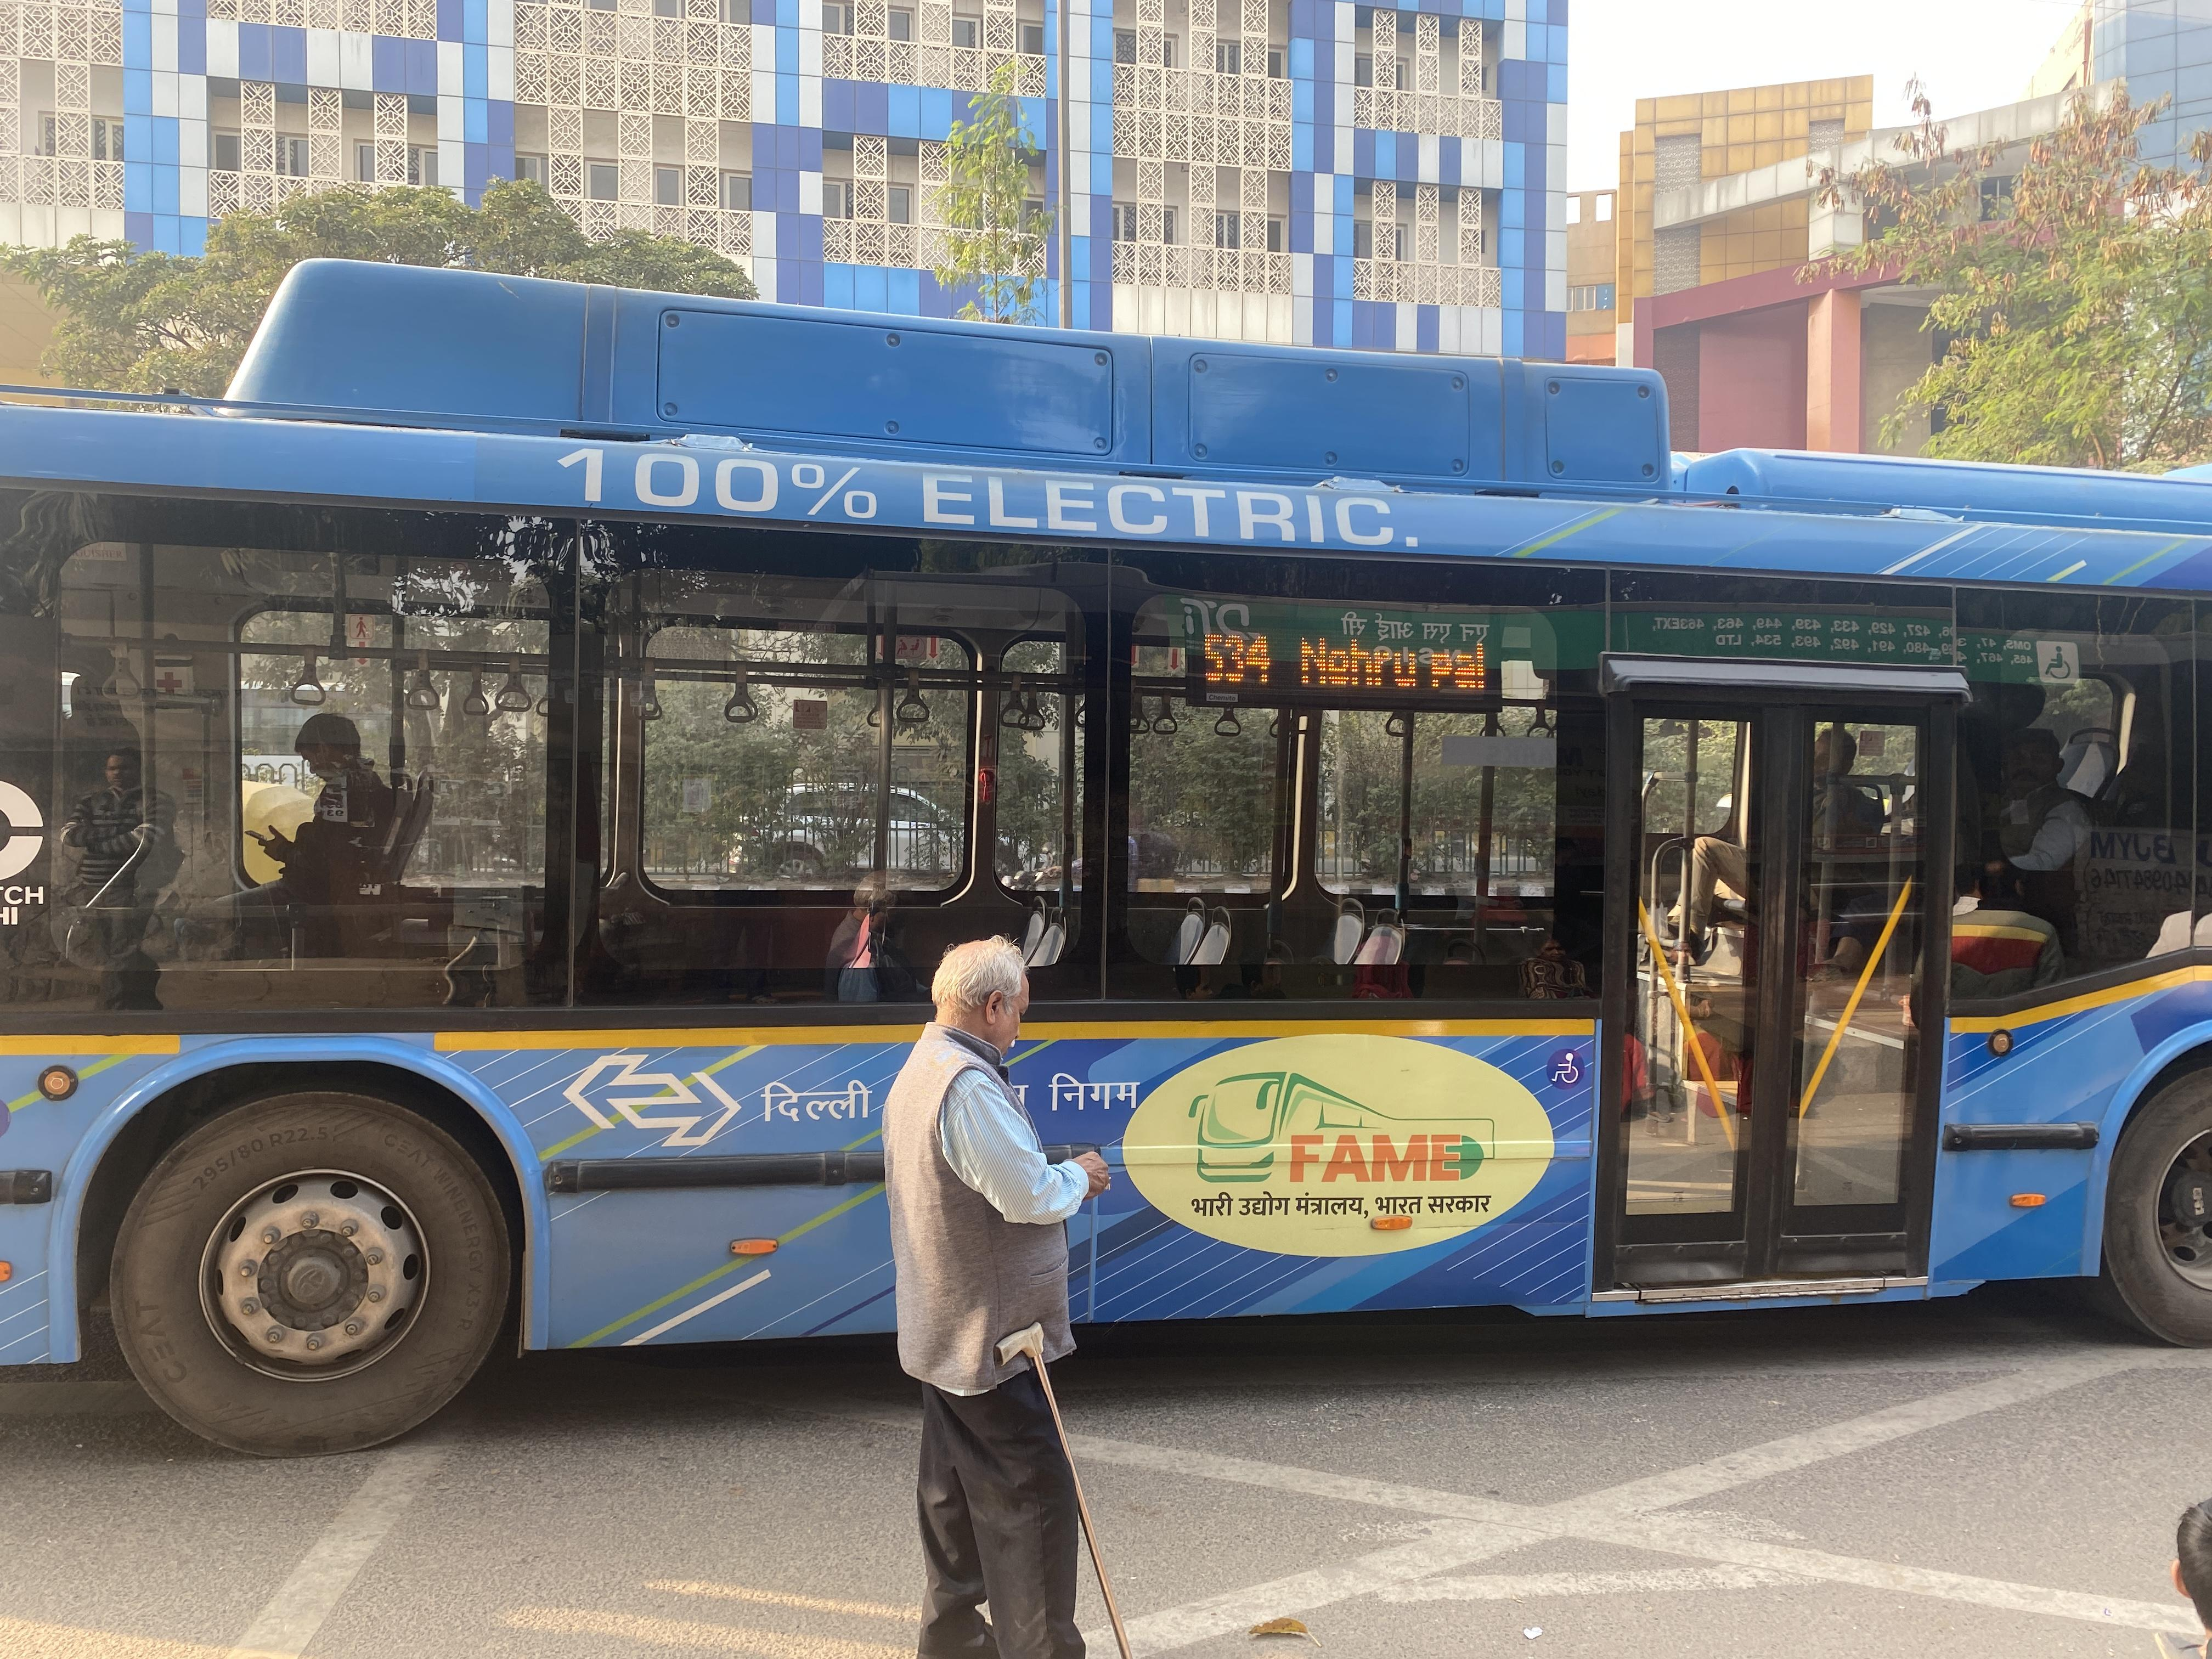Bus: (0, 214, 2212, 1448)
Display Board: (1184, 587, 1536, 741)
